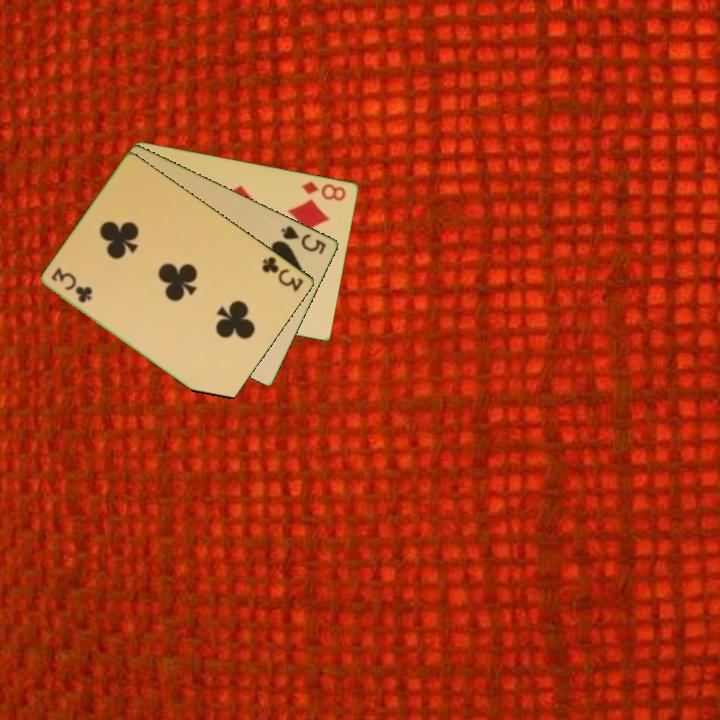3c: (258, 252, 307, 295), (48, 265, 95, 306)
5s: (278, 222, 329, 257)
8d: (298, 177, 349, 204)
